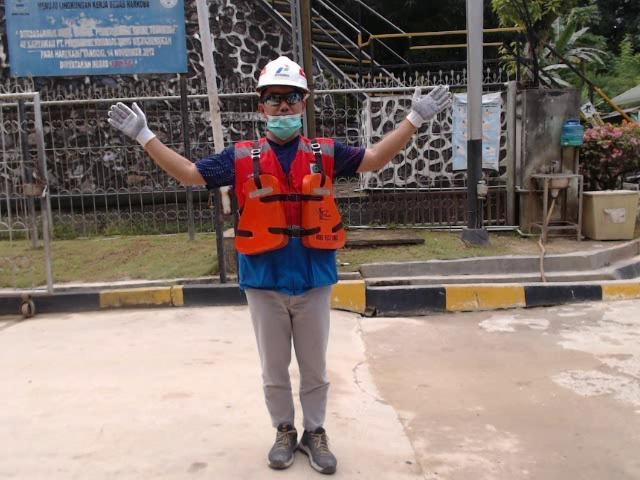vest: (234, 178, 346, 254)
